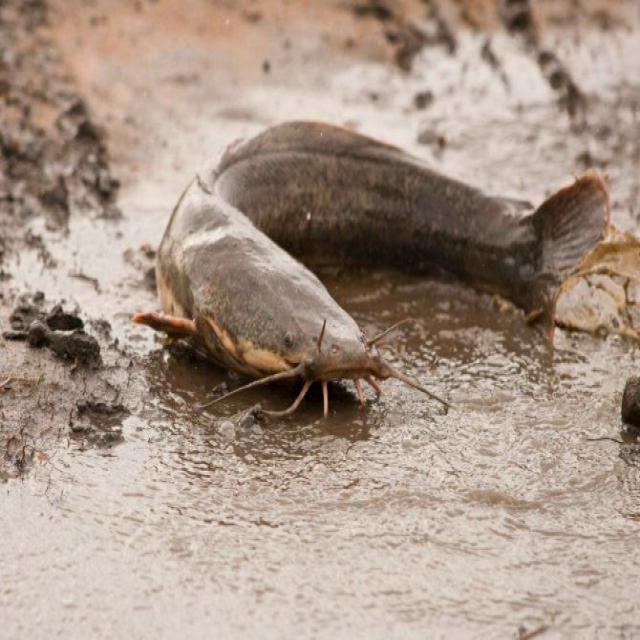Catfish: (118, 57, 628, 481)
